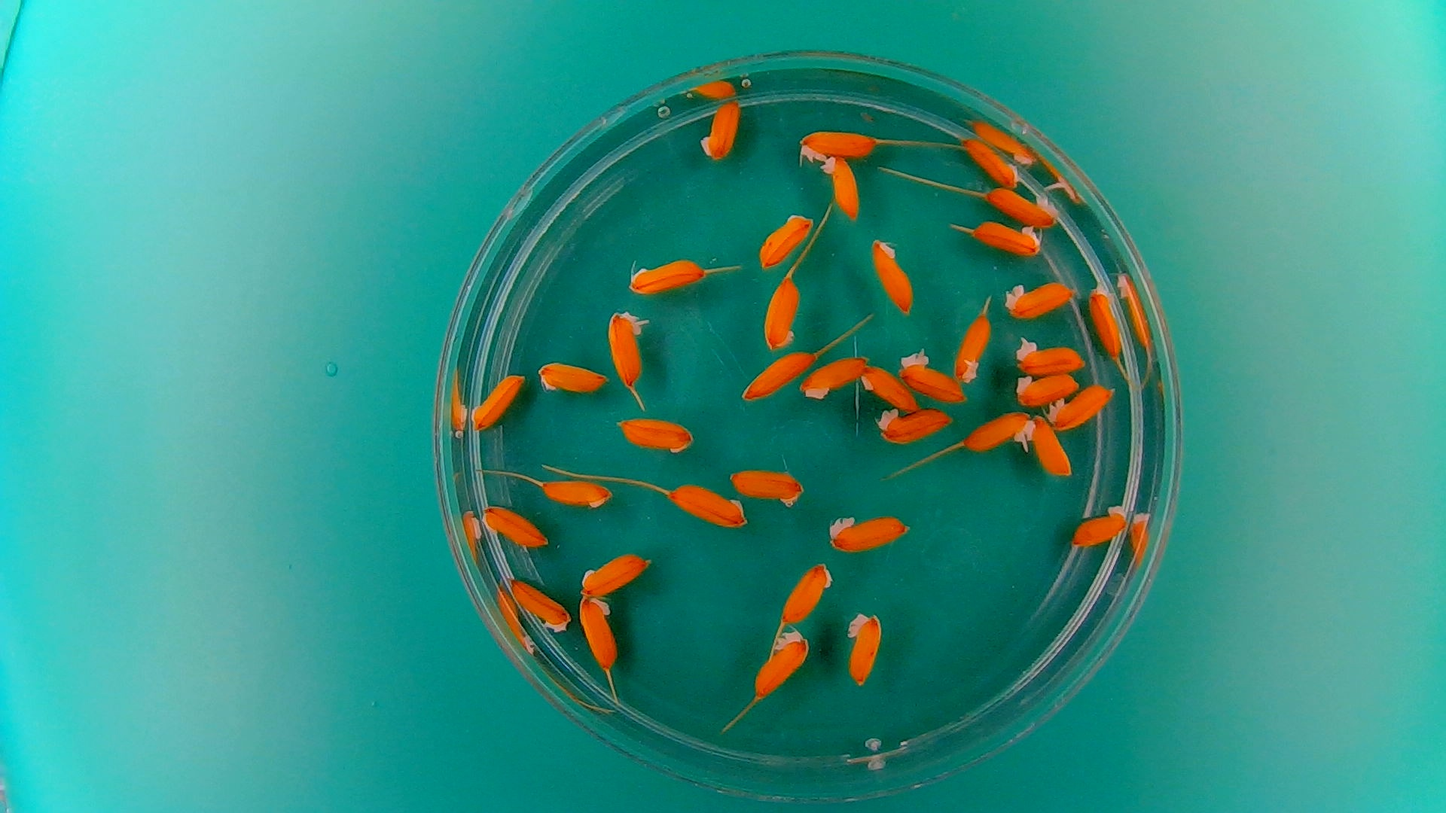no: (868, 235, 920, 323), (751, 627, 812, 702), (664, 479, 748, 529), (739, 348, 816, 401), (577, 548, 654, 598), (825, 510, 912, 554), (508, 575, 574, 633), (726, 463, 806, 508), (780, 559, 835, 624), (626, 252, 707, 296), (468, 370, 525, 431), (614, 413, 696, 455), (756, 209, 813, 269), (959, 134, 1023, 187), (1046, 382, 1115, 431), (480, 502, 550, 550), (844, 607, 885, 687), (577, 594, 619, 672), (761, 274, 802, 352), (983, 186, 1059, 228), (801, 352, 867, 400), (797, 124, 878, 163), (875, 404, 955, 443), (697, 96, 745, 161), (1001, 278, 1075, 319), (1025, 414, 1072, 477), (817, 154, 861, 221), (1087, 284, 1125, 360), (953, 312, 993, 384), (860, 364, 920, 412), (970, 219, 1045, 257), (534, 358, 609, 396), (538, 475, 614, 510), (1069, 502, 1127, 547), (1014, 371, 1080, 406)
yes: (605, 306, 651, 391), (896, 350, 968, 403), (962, 409, 1031, 454), (1011, 335, 1088, 373)
